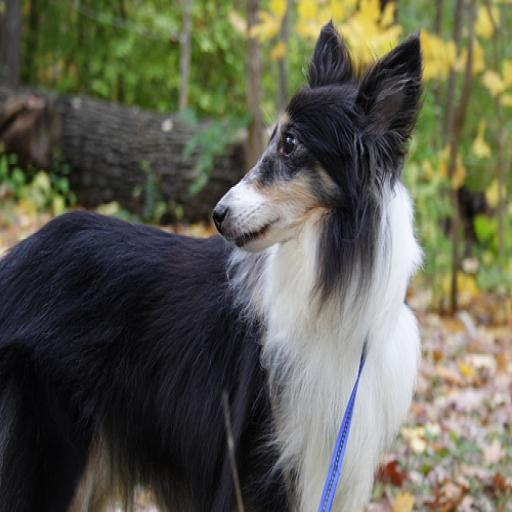dog_face: (214, 24, 422, 263)
